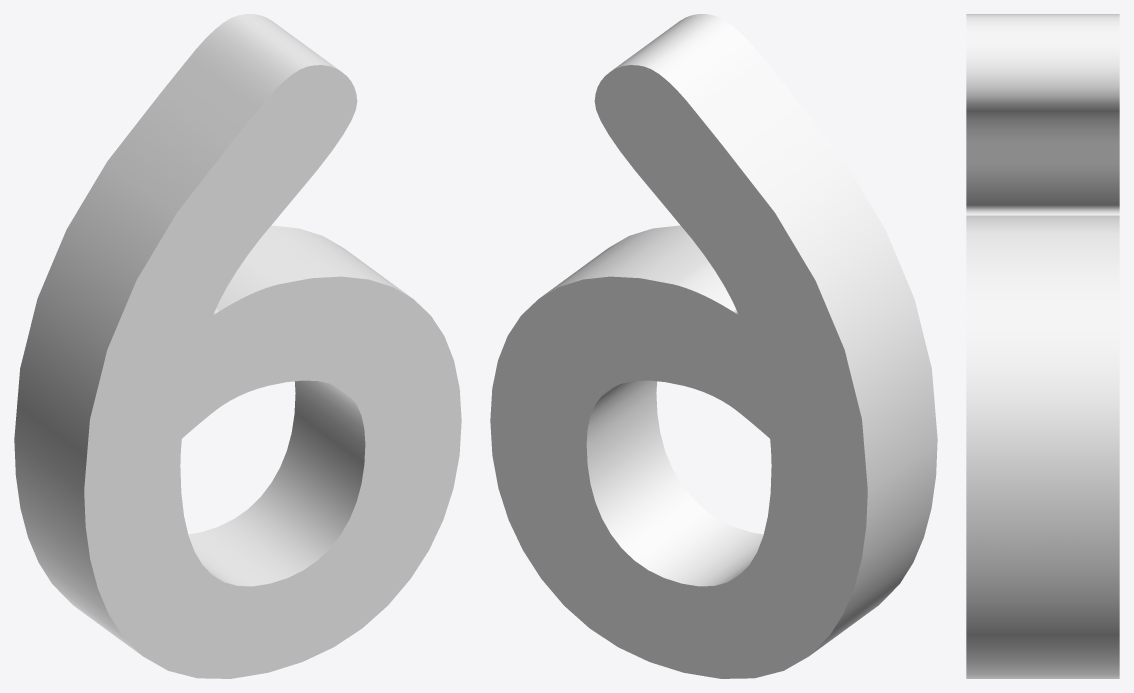
Rendered from NumberSix.fbx.
3 renders of one model, left to right at view 1: azimuth 30°, elevation 25°; view 2: azimuth 150°, elevation 25°; view 3: azimuth 270°, elevation 25°, orthographic. The views are drawn at different scales.
Parts seen in each view (by area): view 1: Text.007; view 2: Text.007; view 3: Text.007.
Boxes of the visible parts, left/top/right/bottom form: Text.007: left=14, top=14, right=461, bottom=678; Text.007: left=490, top=14, right=937, bottom=678; Text.007: left=966, top=14, right=1119, bottom=678.
Size of the model in its own units: 37.46 by 56.57 by 12.
